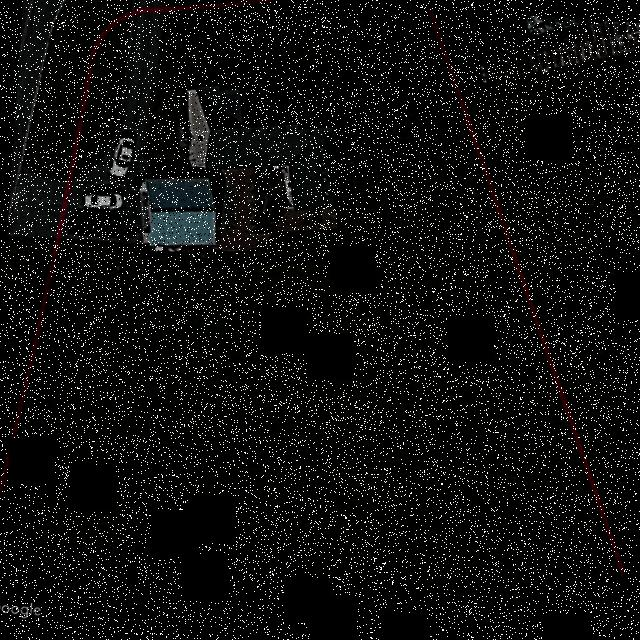Driveway: (61, 12, 162, 241), (212, 169, 272, 250), (275, 209, 336, 230)
Extra Driveway: (7, 165, 63, 237)
Extra Lawn: (23, 0, 130, 178)
House: (177, 82, 356, 209)
Other: (139, 175, 215, 244)
